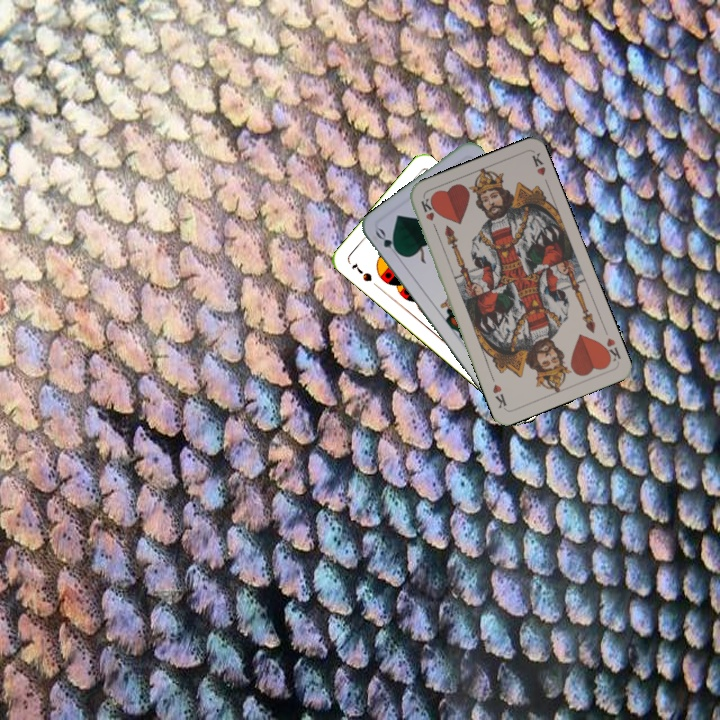GO: (371, 224, 404, 260)
HK: (417, 194, 440, 234), (598, 334, 624, 366)
S7: (348, 259, 375, 284)
